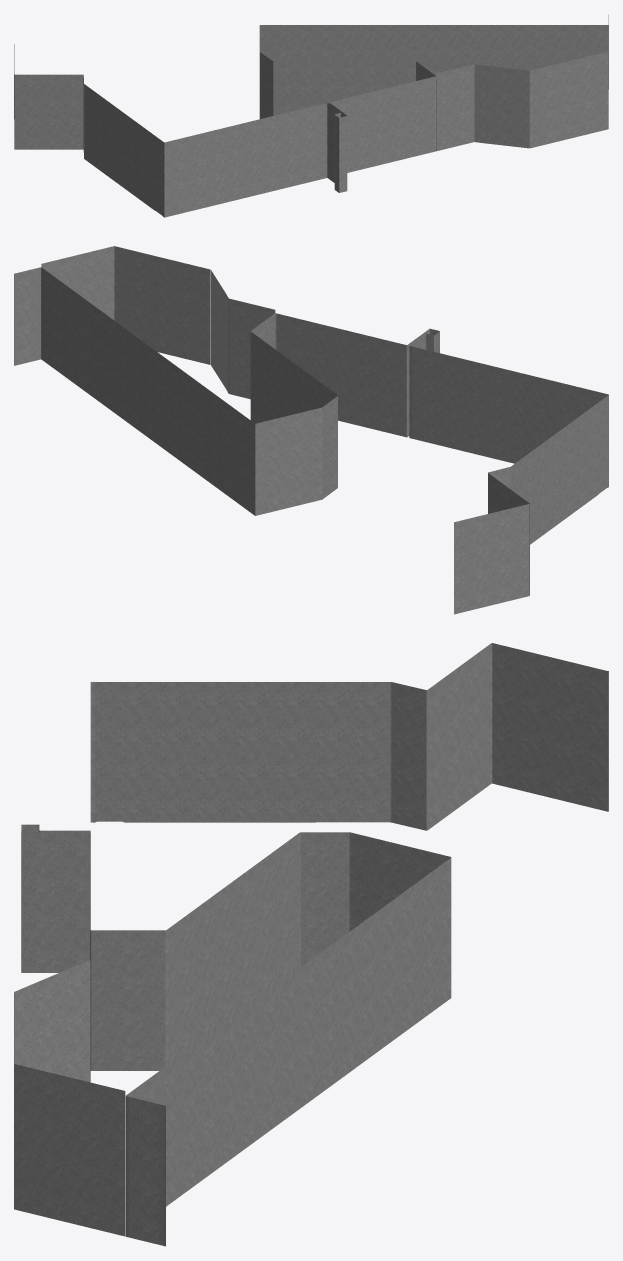
File: WPLWall06.fbx
3 views of the same model, one above another, from view 1: azimuth 30°, elevation 25°; view 2: azimuth 150°, elevation 25°; view 3: azimuth 270°, elevation 25° (orthographic). The views are drawn at different scales.
Visible parts, largest first — view 1: Wall 06.Shape; view 2: Wall 06.Shape; view 3: Wall 06.Shape.
Boxes of the visible parts, bbox=[...] form: Wall 06.Shape: bbox=[14, 14, 608, 217]; Wall 06.Shape: bbox=[14, 246, 608, 614]; Wall 06.Shape: bbox=[14, 643, 608, 1246].
Bounding box in the file's own units: 4496 × 659 × 2440.
1 material, 1 textured.
